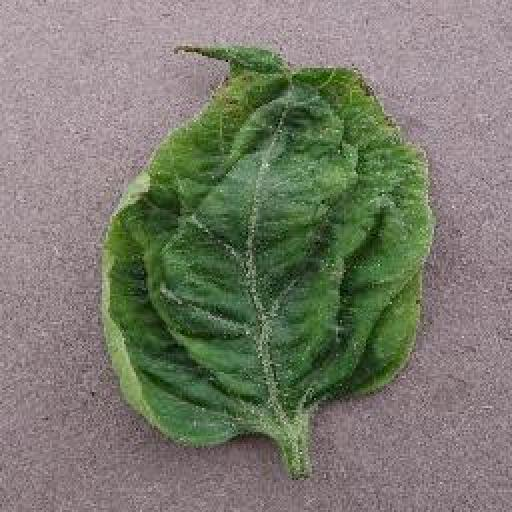disease_tomato: (94, 40, 436, 454)
